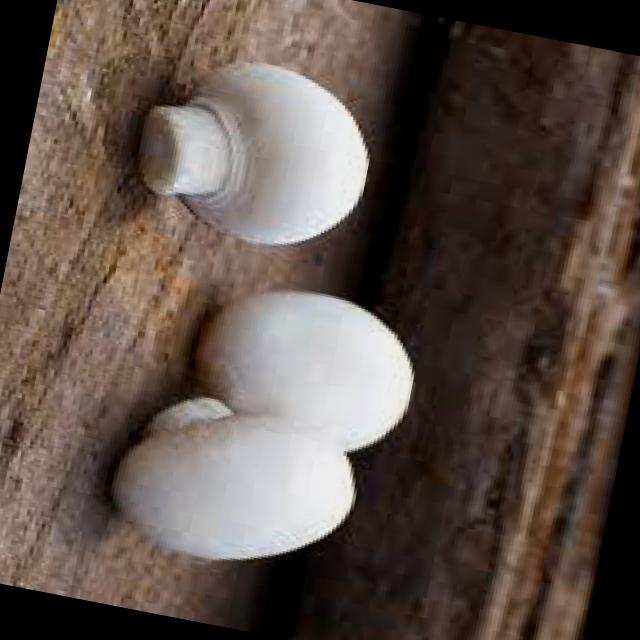Agaricus bisporus: (100, 370, 367, 582), (126, 48, 384, 261), (176, 271, 426, 462)
